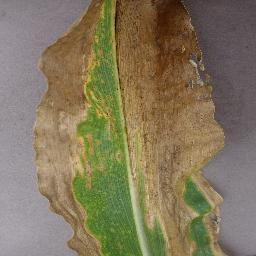Corn_Blight: (32, 23, 99, 218), (125, 0, 205, 146), (99, 0, 123, 176), (159, 146, 193, 256), (130, 147, 160, 235), (201, 177, 225, 256), (59, 218, 106, 256), (205, 89, 225, 176), (76, 0, 98, 22), (195, 147, 206, 177), (206, 64, 214, 87)
